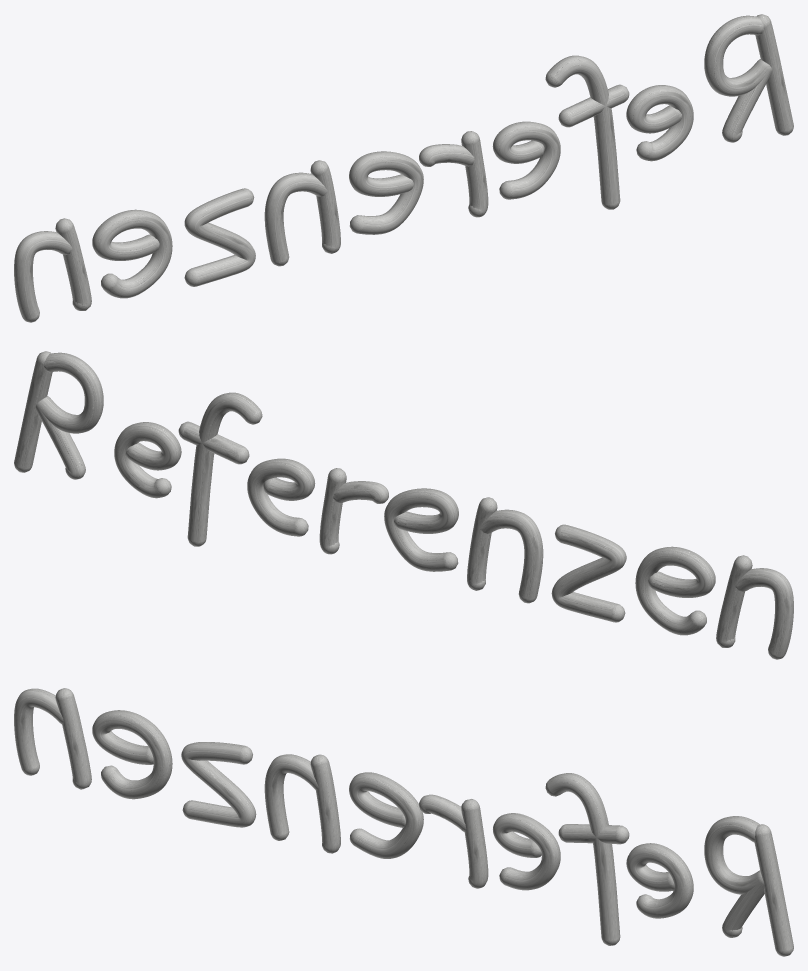
The model's file is cb784b16-0a27-4fe5-abb6-ac33ea4e8898.obj.
3 views of the same model, one above another, from view 1: azimuth 30°, elevation 25°; view 2: azimuth 150°, elevation 25°; view 3: azimuth 330°, elevation 25° (orthographic).
Visible parts, largest first — view 1: s.0201, s.0165, s.0123, s.0197, s.0153, s.0133, s.0148, s.0181, s.0208, s.0118, s.0206, s.0168 (+4 smaller); view 2: s.0201, s.0165, s.0123, s.0197, s.0153, s.0133, s.0148, s.0181, s.0208, s.0118, s.0206, s.0168 (+4 smaller); view 3: s.0201, s.0165, s.0197, s.0133, s.0123, s.0153, s.0118, s.0181, s.0208, s.0148, s.0206, s.0168 (+4 smaller).
Part boxes in pixels (x1,y1,x2,y2): s.0201: (92,209,172,298); s.0165: (349,151,423,234); s.0123: (704,15,772,142); s.0197: (184,188,255,286); s.0153: (492,121,560,199); s.0133: (545,55,620,209); s.0148: (626,85,688,160); s.0181: (264,172,327,266); s.0208: (14,231,72,322); s.0118: (755,14,793,135); s.0206: (55,218,91,310); s.0168: (310,160,340,253); s.0201: (635,546,715,635); s.0165: (384,488,458,571); s.0123: (35,352,103,479); s.0197: (551,524,626,622); s.0153: (247,458,315,536); s.0133: (187,392,262,546); s.0148: (119,422,181,495); s.0181: (480,509,543,603); s.0208: (735,568,793,659); s.0118: (14,351,52,472); s.0206: (716,555,752,647); s.0168: (467,497,497,590); s.0201: (92,710,172,799); s.0165: (349,772,423,858); s.0197: (181,742,256,827); s.0133: (545,773,620,945); s.0123: (704,816,764,937); s.0153: (493,813,560,890); s.0118: (754,824,793,956); s.0181: (264,754,318,840); s.0208: (14,688,63,775); s.0148: (626,843,679,915); s.0206: (55,688,91,789); s.0168: (310,754,340,853).
Bounding box in the file's own units: 1.46 × 0.2912 × 0.0366.
Materials: 1 (1 with a texture image).
